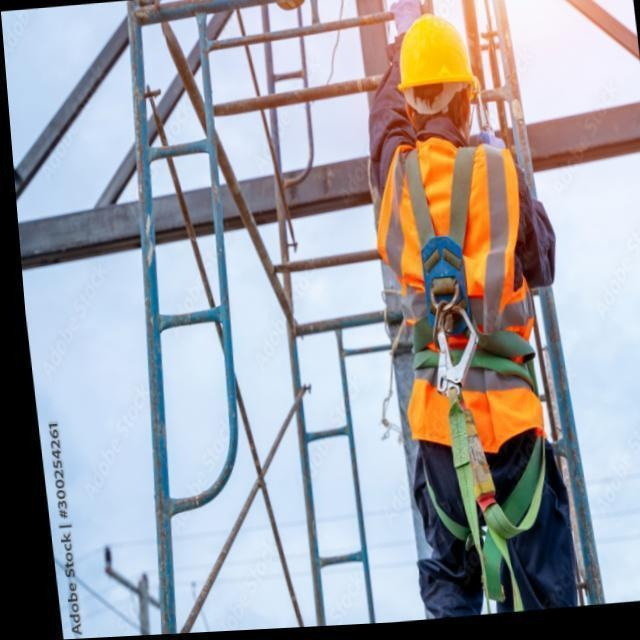Arnes_seguridad: (375, 136, 550, 554)
